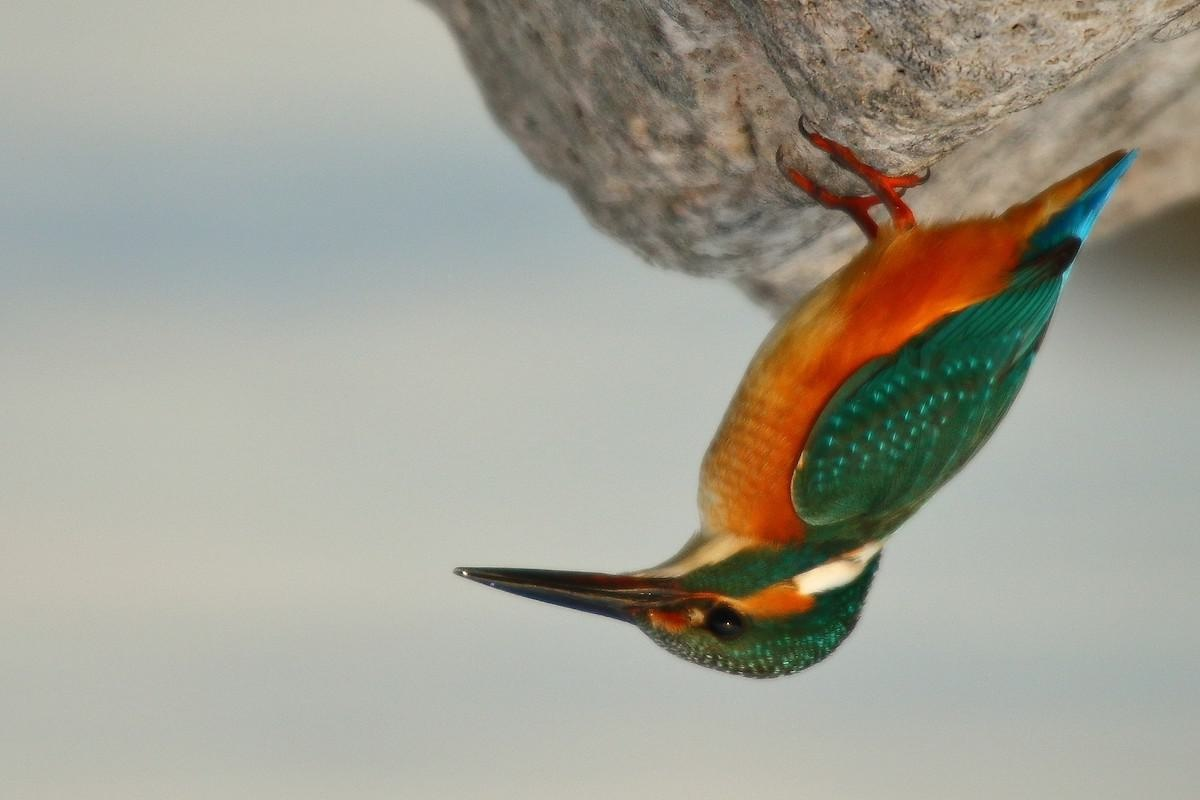kingfisher: (457, 122, 1109, 670)
